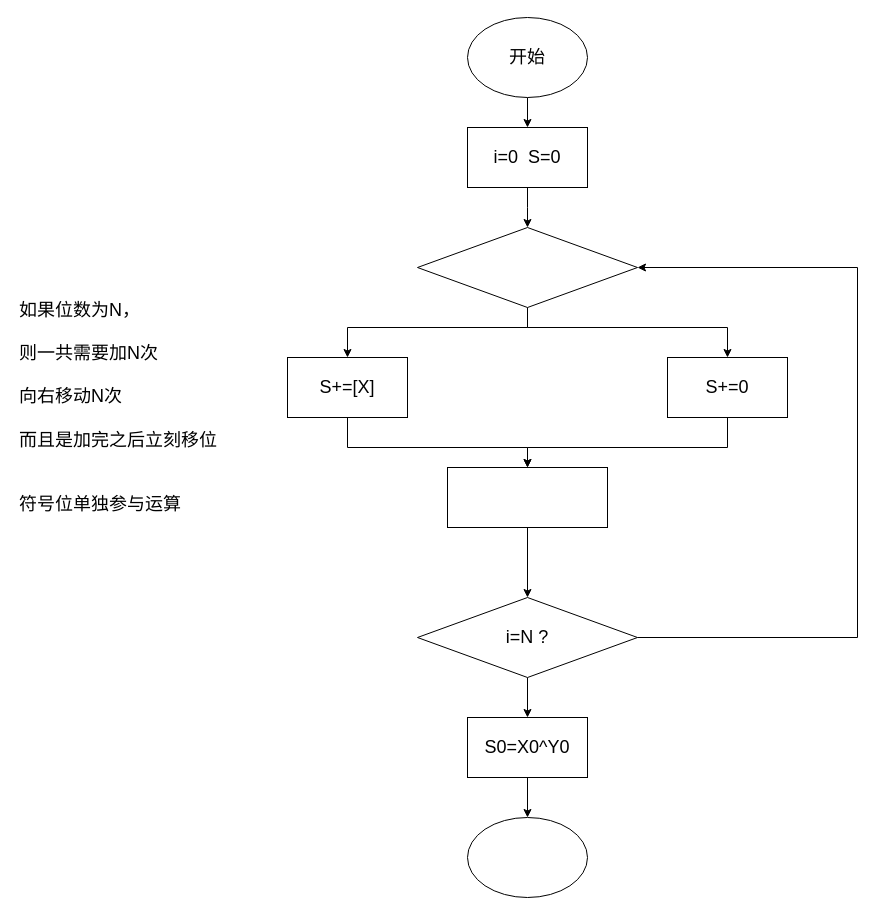
Some shapes in this 883 by 915 pixel diagram are drawn without their labels. Here are the shapes that lost their labels. From the top down, the centre of each, then its label:
At (x=527, y=267): "Yi==1?".
At (x=527, y=497): "i++ S 逻辑右移一位".
At (x=527, y=857): "结束".
